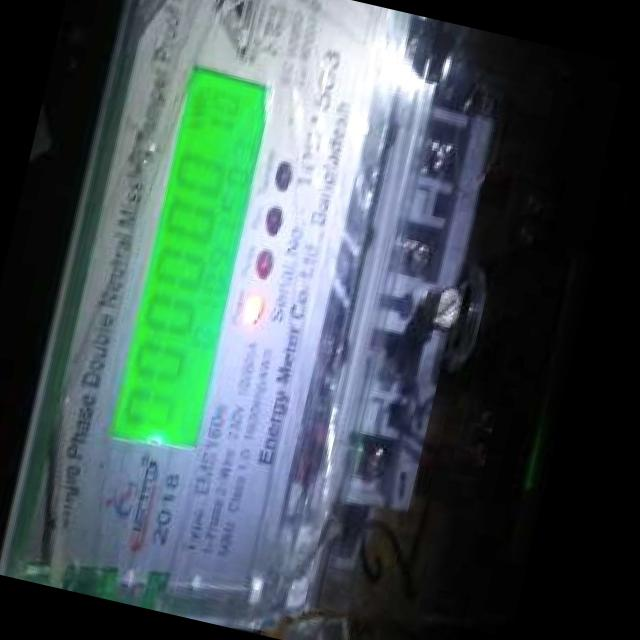LCD: (96, 52, 290, 472)
